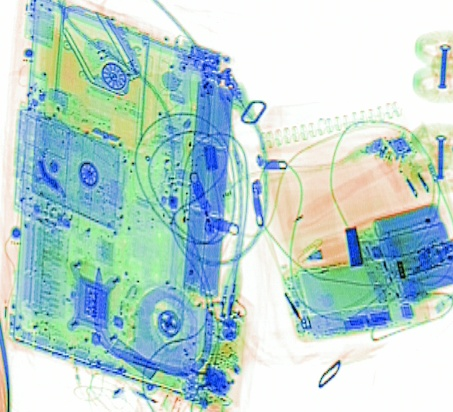powerbank: (348, 202, 450, 304)
